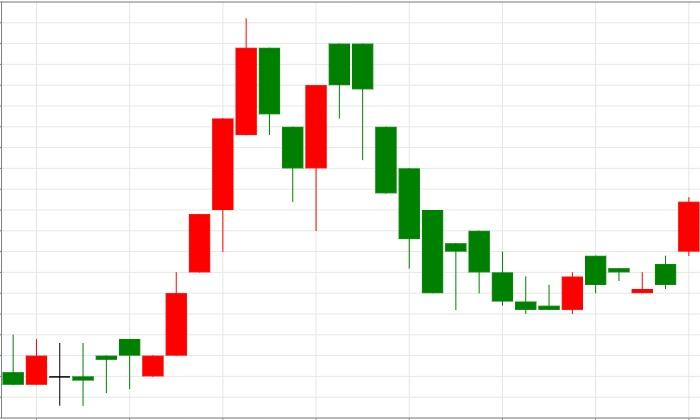three_white_soldiers_rise: (49, 117, 234, 407)
